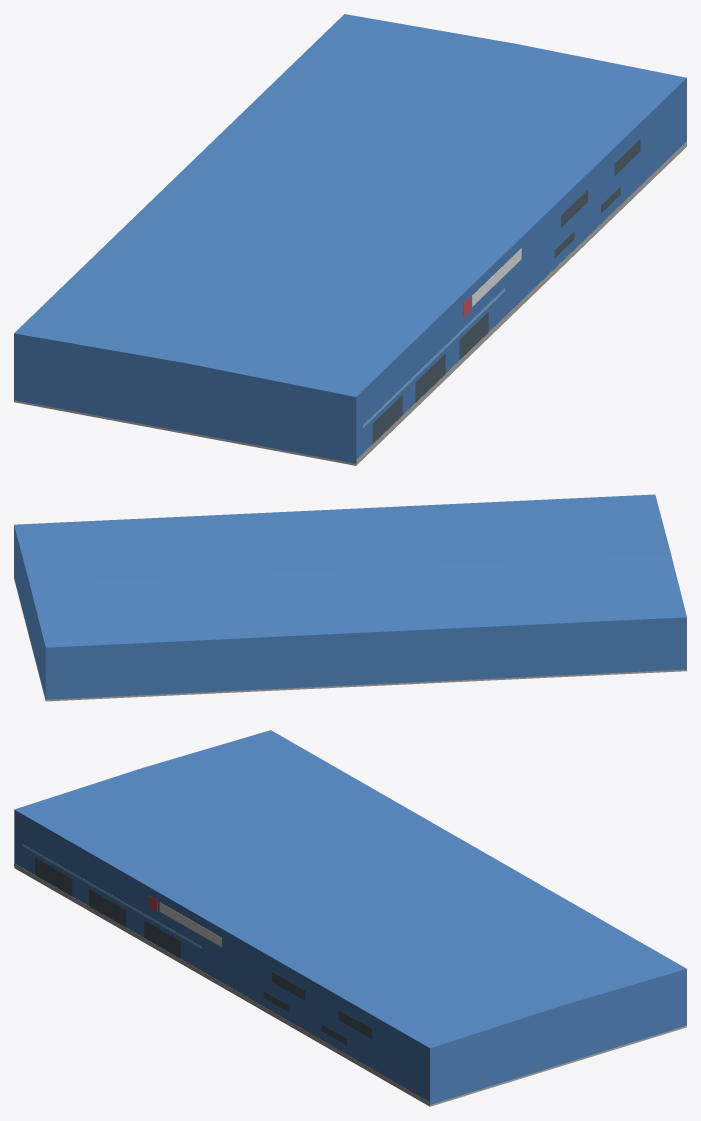
The model's file is plumbers_supply_tier2.glb.
3 views of the same model, one above another, from view 1: azimuth 30°, elevation 25°; view 2: azimuth 150°, elevation 25°; view 3: azimuth 270°, elevation 25° (orthographic). The views are drawn at different scales.
Visible parts, largest first — view 1: plumbers_supply_gable, plumbers_supply_walls, plumbers_supply_plinth, base; view 2: plumbers_supply_gable, plumbers_supply_walls, plumbers_supply_plinth; view 3: plumbers_supply_gable, plumbers_supply_walls, plumbers_supply_plinth, base, dock_1, dock_0, dock_2, signboard, awning.
Part boxes in pixels (x1,y1,x2,y2): plumbers_supply_gable: (14,14,686,396); plumbers_supply_walls: (14,78,686,463); plumbers_supply_plinth: (14,145,686,465); base: (356,141,686,463); plumbers_supply_gable: (14,494,686,647); plumbers_supply_walls: (14,525,686,699); plumbers_supply_plinth: (14,577,686,701); plumbers_supply_gable: (14,730,686,1048); plumbers_supply_walls: (14,810,686,1104); plumbers_supply_plinth: (14,866,686,1106); base: (14,863,429,1104); dock_1: (89,889,126,927); dock_0: (35,858,72,896); dock_2: (144,920,180,958); signboard: (159,902,221,946); awning: (22,844,201,948).
Size of the model in its own units: 116 by 10.25 by 104.
